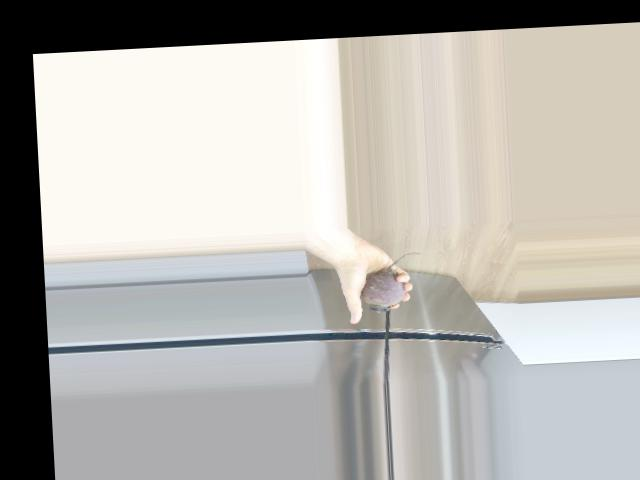beet: (359, 252, 425, 313)
